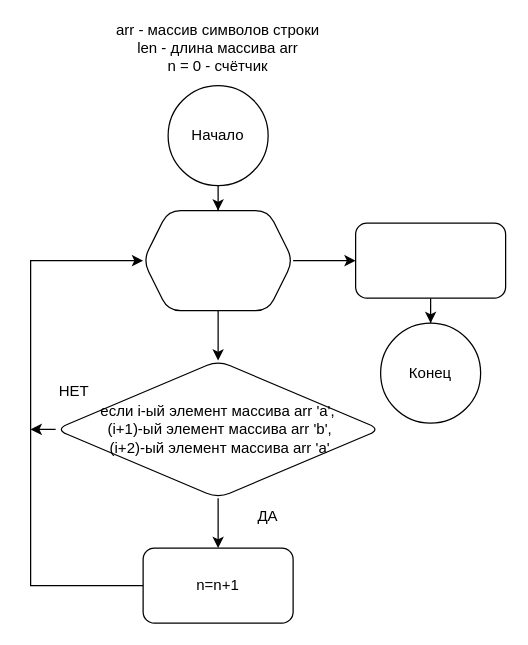
Some shapes in this 528 by 645 pixel diagram are drawn without their labels. The shapes that lost their labels are listed below. From the top down, each one's centre as x and y in pixels, then its label:
At point (217, 260): "от i до len-2 с шагом 1".
At point (430, 260): "выводим n".
